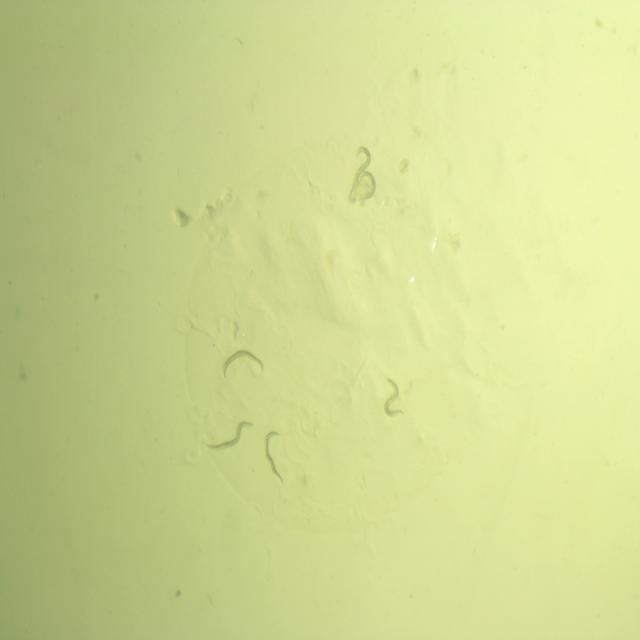worm: (199, 416, 256, 455), (343, 144, 373, 206), (260, 424, 290, 486), (220, 344, 266, 384), (377, 371, 409, 422), (352, 165, 380, 202)
